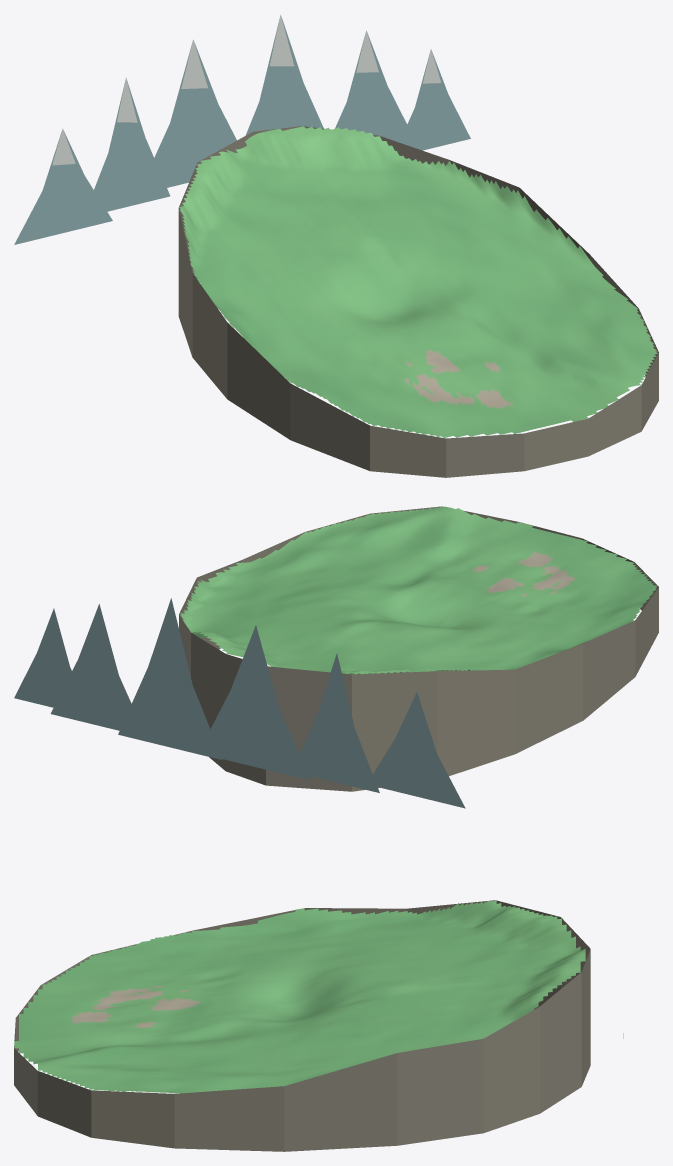
The model's file is nimbu_depth_landscape.glb.
3 views of the same model, one above another, from view 1: azimuth 30°, elevation 25°; view 2: azimuth 150°, elevation 25°; view 3: azimuth 270°, elevation 25° (orthographic). The views are drawn at different scales.
Visible parts, largest first — view 1: DEPTH_GUIDED_HIMALAYAN_TERRAIN, DEPTH_GUIDED_ISLAND_CLIFFS, Mountain_peak_2, Mountain_peak_1, Mountain_peak_0, Mountain_peak_3, Mountain_peak_4, Mountain_peak_5, Snow_cap_2, Snow_cap_3; view 2: DEPTH_GUIDED_HIMALAYAN_TERRAIN, DEPTH_GUIDED_ISLAND_CLIFFS, Mountain_peak_2, Mountain_peak_3, Mountain_peak_1, Mountain_peak_4, Mountain_peak_0, Mountain_peak_5; view 3: DEPTH_GUIDED_HIMALAYAN_TERRAIN, DEPTH_GUIDED_ISLAND_CLIFFS.
Part boxes in pixels (bbox=[...]): DEPTH_GUIDED_HIMALAYAN_TERRAIN: bbox=[179, 126, 657, 437]; DEPTH_GUIDED_ISLAND_CLIFFS: bbox=[178, 126, 658, 477]; Mountain_peak_2: bbox=[154, 41, 236, 187]; Mountain_peak_1: bbox=[94, 79, 170, 211]; Mountain_peak_0: bbox=[14, 130, 112, 244]; Mountain_peak_3: bbox=[245, 19, 323, 135]; Mountain_peak_4: bbox=[335, 32, 407, 142]; Mountain_peak_5: bbox=[399, 52, 470, 150]; Snow_cap_2: bbox=[181, 39, 207, 88]; Snow_cap_3: bbox=[269, 15, 294, 66]; DEPTH_GUIDED_HIMALAYAN_TERRAIN: bbox=[180, 506, 657, 674]; DEPTH_GUIDED_ISLAND_CLIFFS: bbox=[179, 506, 658, 791]; Mountain_peak_2: bbox=[198, 625, 311, 780]; Mountain_peak_3: bbox=[118, 598, 222, 760]; Mountain_peak_1: bbox=[300, 653, 379, 792]; Mountain_peak_4: bbox=[50, 604, 131, 730]; Mountain_peak_0: bbox=[373, 692, 465, 808]; Mountain_peak_5: bbox=[14, 608, 71, 707]; DEPTH_GUIDED_HIMALAYAN_TERRAIN: bbox=[14, 900, 585, 1093]; DEPTH_GUIDED_ISLAND_CLIFFS: bbox=[14, 900, 590, 1151].
Bounding box in the file's own units: 190 × 79.3 × 239.
